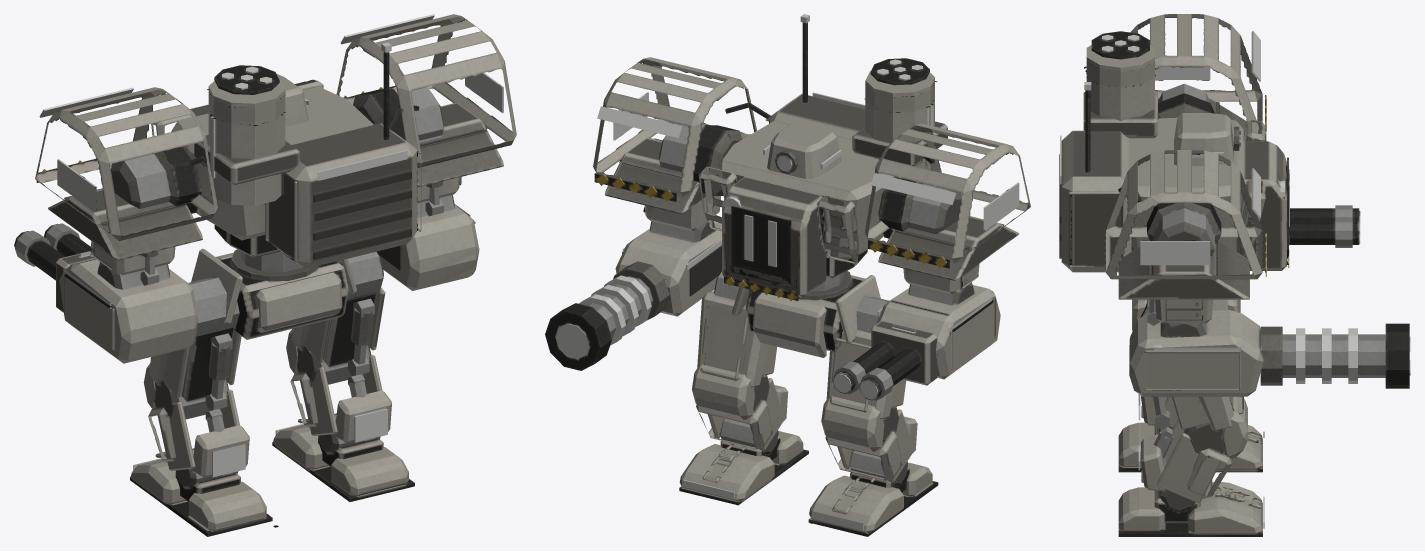
File: ord_titan.fbx
The picture shows the model from 3 angles, left to right: view 1: azimuth 30°, elevation 25°; view 2: azimuth 150°, elevation 25°; view 3: azimuth 270°, elevation 25°; orthographic projection. The views are drawn at different scales.
Visible parts, largest first — view 1: torso_bar, blaster_arm_bar, base_bar, beam_arm_bar, missile_pod_bar, thighL_bar, thighR_bar, footL_bar, footR_bar, shinR_bar, shinL_bar, torso_glow_power_bar (+3 smaller); view 2: torso_bar, blaster_arm_bar, beam_arm_bar, thighR_bar, base_bar, footR_bar, footL_bar, thighL_bar, missile_pod_bar, torso_glow_running_bar, shinL_bar, torso_glow_power_bar (+3 smaller); view 3: torso_bar, beam_arm_bar, footR_bar, missile_pod_bar, shinR_bar, thighR_bar, blaster_arm_bar, torso_glow_power_bar, footL_bar, beam_arm_glow_power_bar, torso_glow_running_bar, base_bar (+1 smaller).
Boxes of the visible parts, x1,y1,x2,y2 form: torso_bar: [35, 14, 516, 272]; blaster_arm_bar: [14, 154, 198, 363]; base_bar: [191, 248, 356, 339]; beam_arm_bar: [377, 87, 479, 290]; missile_pod_bar: [207, 65, 285, 205]; thighL_bar: [143, 277, 241, 419]; thighR_bar: [286, 251, 385, 384]; footL_bar: [130, 448, 272, 536]; footR_bar: [272, 413, 414, 501]; shinR_bar: [290, 354, 391, 442]; shinL_bar: [148, 389, 249, 477]; torso_glow_power_bar: [57, 59, 503, 212]; torso_bar: [593, 22, 1030, 300]; blaster_arm_bar: [833, 184, 1000, 400]; beam_arm_bar: [545, 123, 721, 370]; thighR_bar: [692, 271, 776, 419]; base_bar: [732, 271, 880, 357]; footR_bar: [679, 418, 808, 505]; footL_bar: [808, 450, 938, 536]; thighL_bar: [821, 296, 906, 451]; missile_pod_bar: [864, 58, 937, 169]; torso_glow_running_bar: [597, 14, 956, 205]; shinL_bar: [825, 409, 917, 482]; torso_glow_power_bar: [613, 92, 1019, 267]; torso_bar: [1059, 14, 1289, 299]; beam_arm_bar: [1129, 208, 1409, 396]; footR_bar: [1118, 463, 1262, 536]; missile_pod_bar: [1084, 31, 1156, 120]; shinR_bar: [1141, 419, 1231, 502]; thighR_bar: [1151, 396, 1247, 458]; blaster_arm_bar: [1158, 83, 1359, 251]; torso_glow_power_bar: [1060, 55, 1289, 265]; footL_bar: [1118, 398, 1262, 472]; beam_arm_glow_power_bar: [1296, 328, 1357, 383]; torso_glow_running_bar: [1084, 31, 1260, 218]; base_bar: [1132, 299, 1240, 330].
Size of the model in its own units: 2113 by 2493 by 1684.
2 materials, 2 textured.
